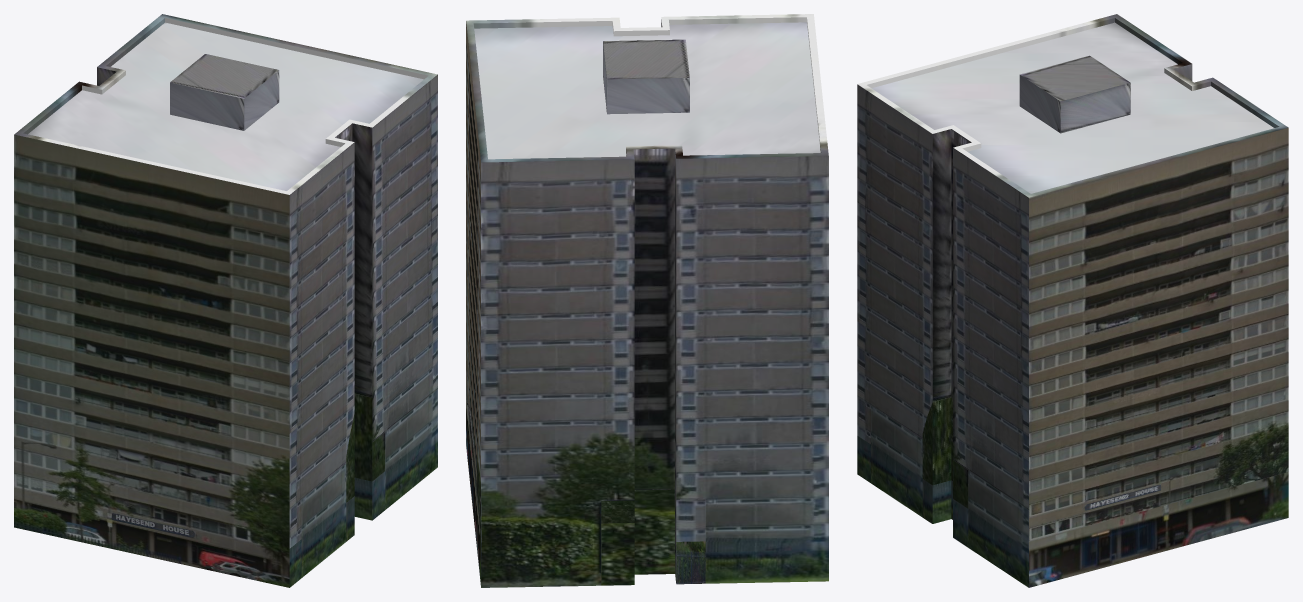
Rendered from Haysend-House,-Blackshaw-Road,-Balham,-London,-SW17.dae.
The picture shows the model from 3 angles, left to right: view 1: azimuth 30°, elevation 25°; view 2: azimuth 150°, elevation 25°; view 3: azimuth 270°, elevation 25°; orthographic projection. The views are drawn at different scales.
Visible parts, largest first — view 1: SketchUp (×18); view 2: SketchUp (×16); view 3: SketchUp (×21).
Part boxes in pixels (x1,y1,x2,y2): SketchUp (×18): [14, 14, 437, 587]; SketchUp (×16): [466, 14, 828, 587]; SketchUp (×21): [857, 14, 1288, 587].
Bounding box in the file's own units: 1054 × 1046 × 1116.
Materials: 37 (36 with a texture image).
